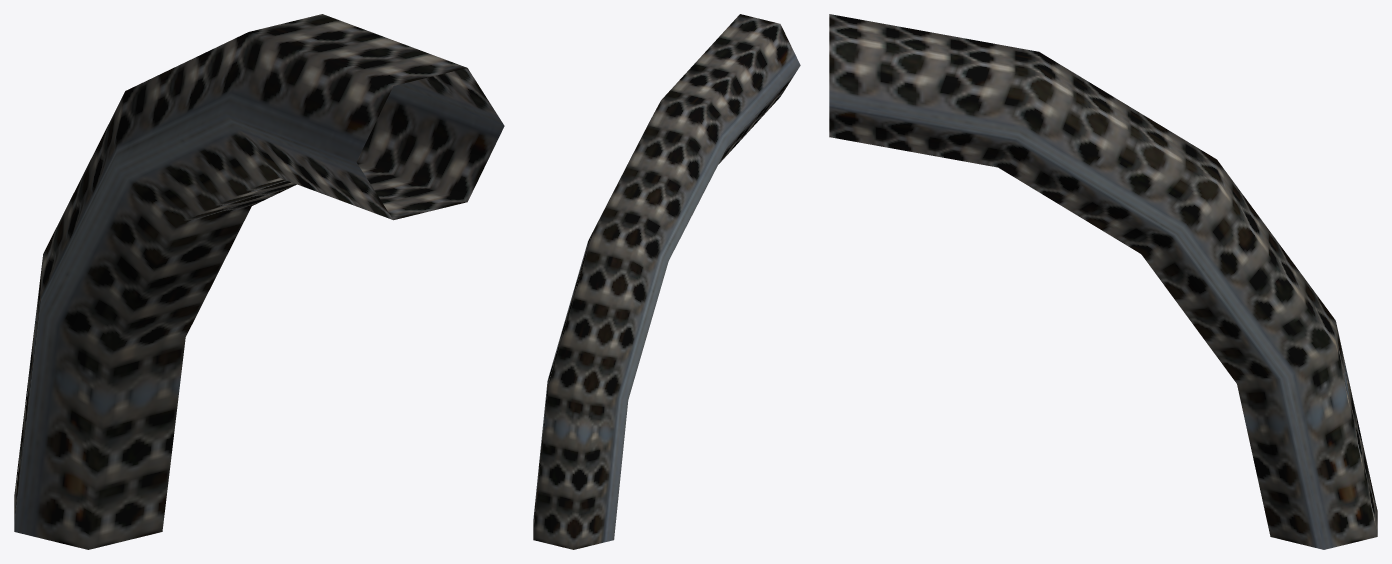
The model's file is small_mesh_8_elbow.fbx.
3 views of the same model, side by side, from view 1: azimuth 30°, elevation 25°; view 2: azimuth 150°, elevation 25°; view 3: azimuth 270°, elevation 25° (orthographic). The views are drawn at different scales.
Parts seen in each view (by area): view 1: allPipes:pTorus37; view 2: allPipes:pTorus37; view 3: allPipes:pTorus37.
Boxes of the visible parts, <box> form: allPipes:pTorus37: <box>14,14,504,549</box>; allPipes:pTorus37: <box>533,14,800,549</box>; allPipes:pTorus37: <box>829,14,1377,549</box>.
Size of the model in its own units: 0.25 by 1.11 by 1.11.
